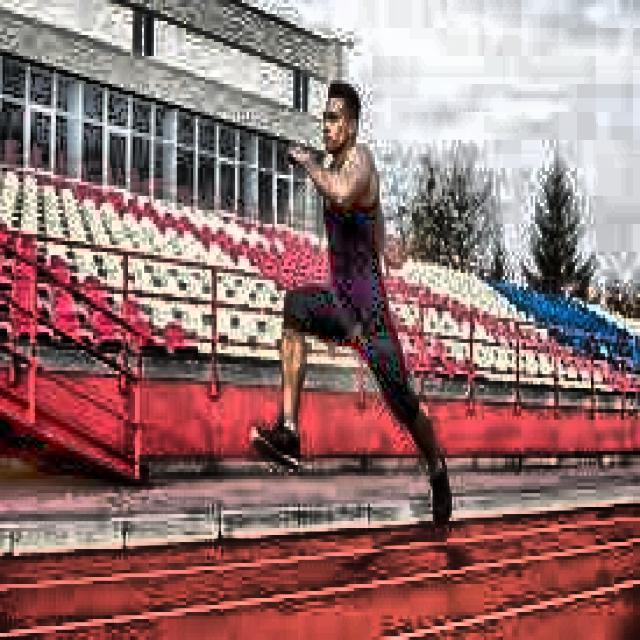Human: (241, 86, 472, 549)
